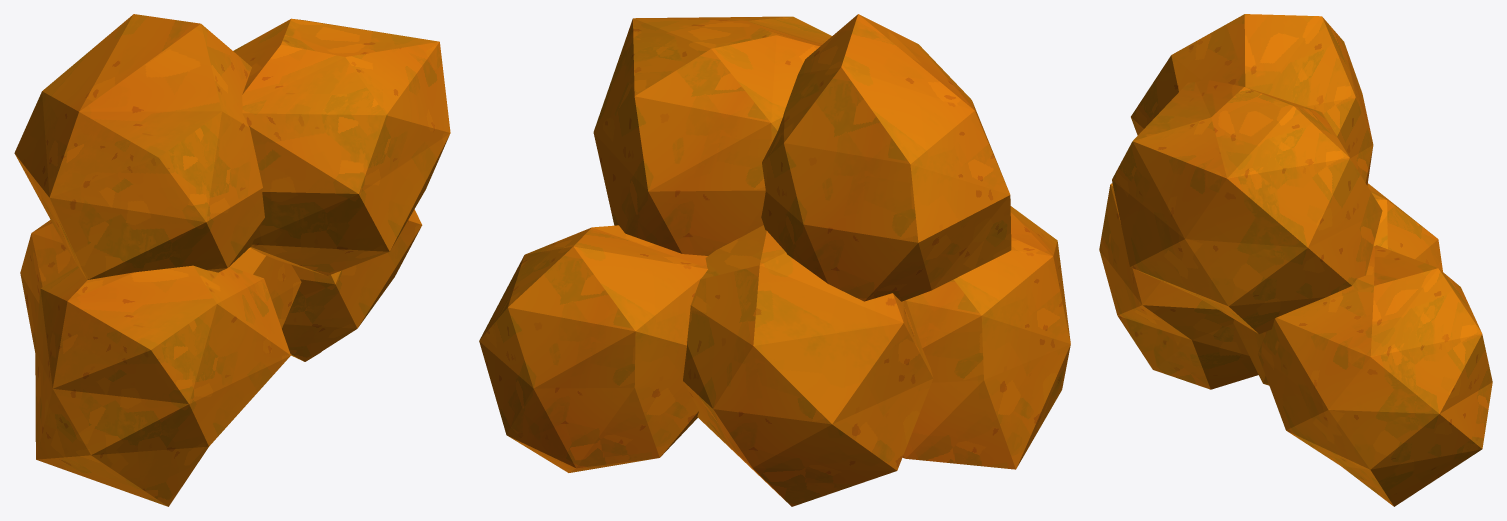
The model's file is gf_int_bigbolders2_1.glb.
The picture shows the model from 3 angles, left to right: view 1: azimuth 30°, elevation 25°; view 2: azimuth 150°, elevation 25°; view 3: azimuth 270°, elevation 25°; orthographic projection. The views are drawn at different scales.
Visible parts, largest first — view 1: rocks1.2; view 2: rocks1.2; view 3: rocks1.2.
Part boxes in pixels (x1,y1,x2,y2): rocks1.2: (14,14,450,506); rocks1.2: (479,14,1070,506); rocks1.2: (1099,14,1492,506).
Size of the model in its own units: 4.74 by 4.45 by 3.94.
Materials: 1 (1 with a texture image).
